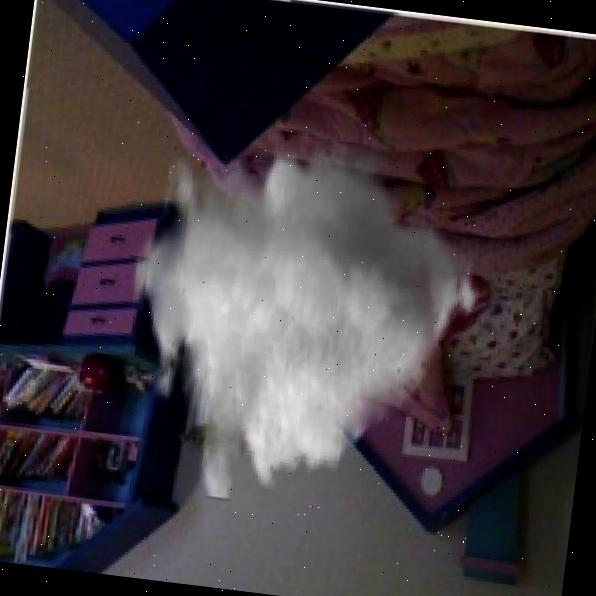smoke: (107, 118, 504, 529)
